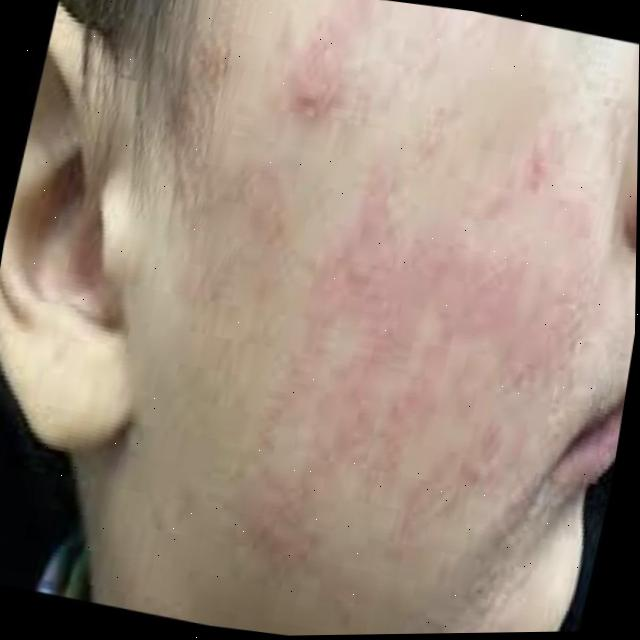Eczema: (179, 46, 607, 536)
